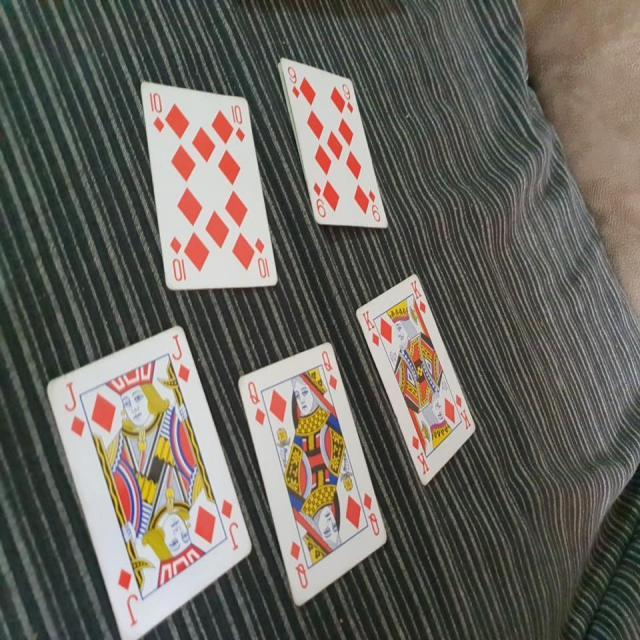10 of diamonds: (139, 79, 278, 293)
9 of diamonds: (280, 55, 390, 232)
jack of diamonds: (44, 322, 253, 636)
king of diamonds: (354, 272, 477, 486)
queen of diamonds: (234, 340, 390, 608)
